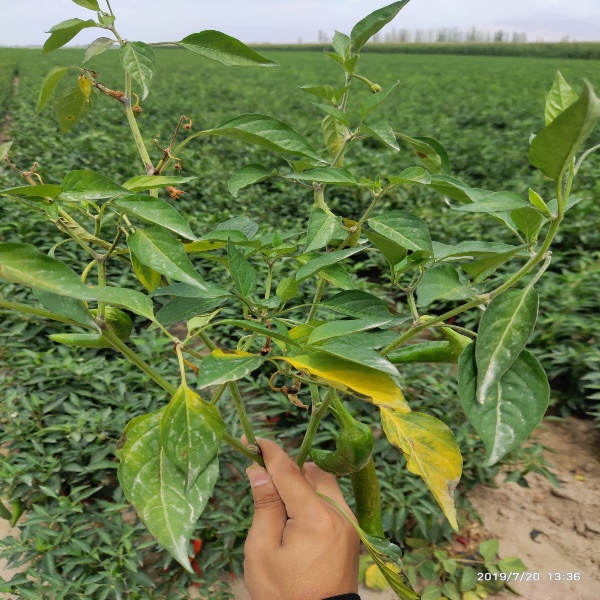Anthrax: (380, 410, 465, 531), (287, 353, 412, 415), (199, 344, 262, 389)
blight: (71, 61, 145, 116), (2, 153, 60, 218), (151, 114, 191, 177), (269, 364, 312, 413), (258, 322, 276, 357)
